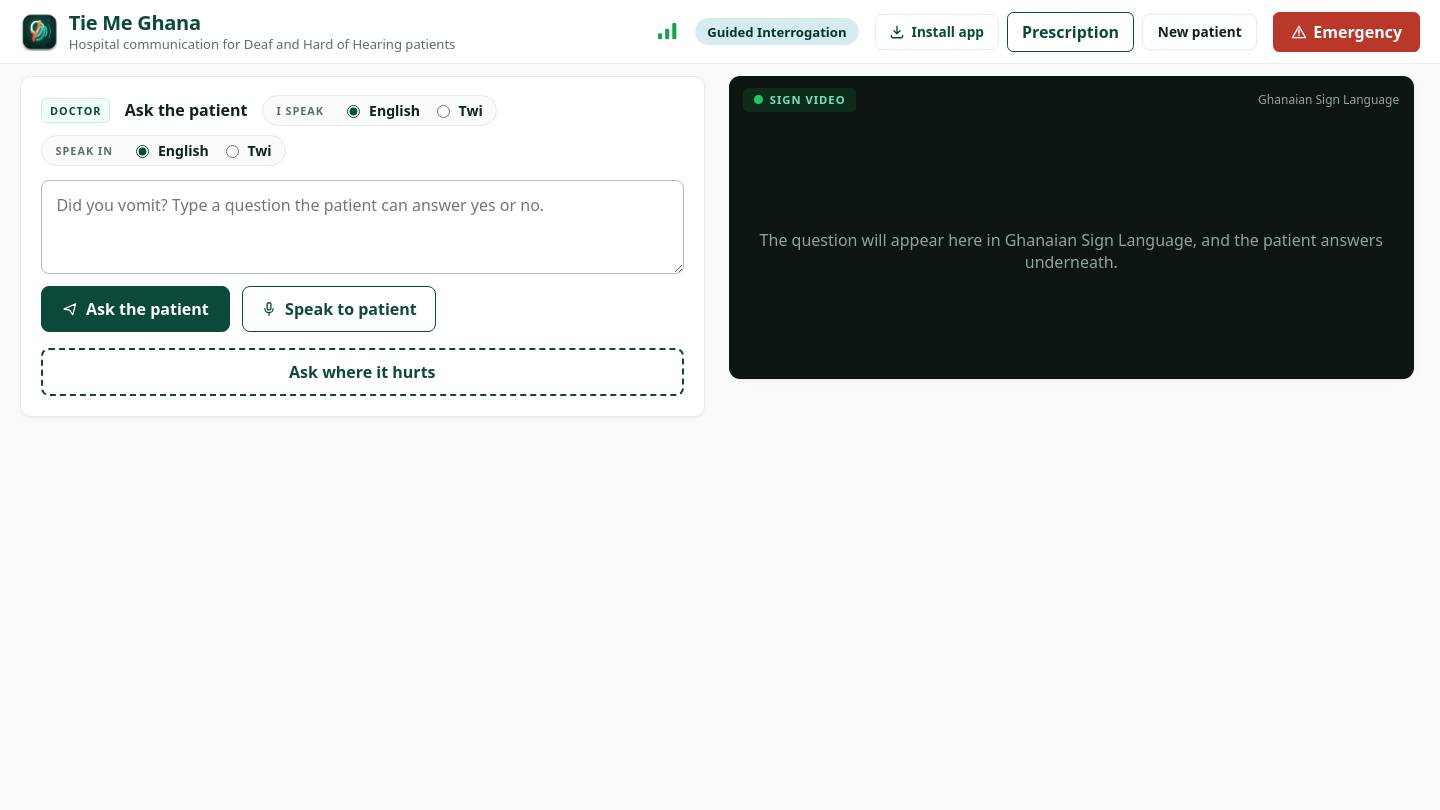
Test: a paired visit, once under way › asks the next patient about their phone afresh
The width and height of the screenshot is (1440, 810).
Check: the text "Guided Interrogation" is shown, box [695,18,859,46]
Click the button with test id "new-patient".
click(1200, 32)  # box [1142,14,1257,50]
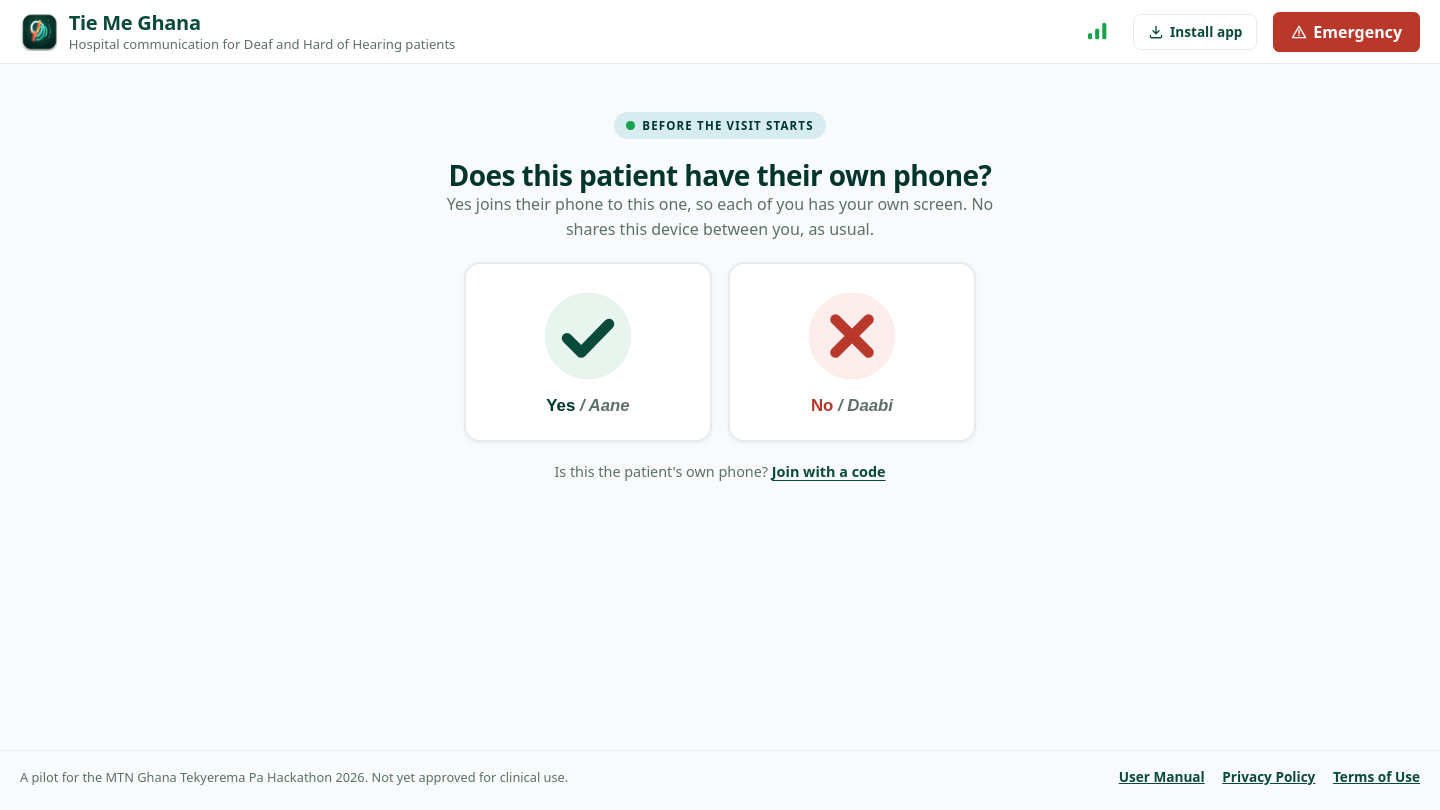
Check: the element with test id "device-choice" is shown, box [447,112,993,481]
